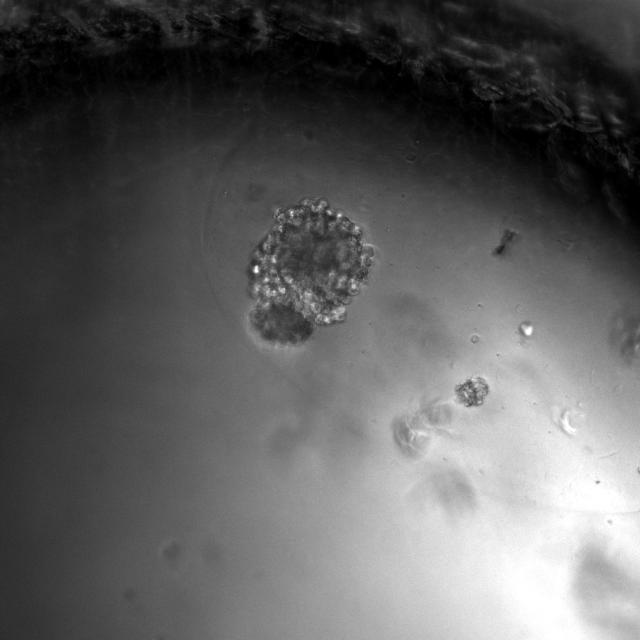organoid: (248, 199, 373, 345), (455, 376, 488, 406)
